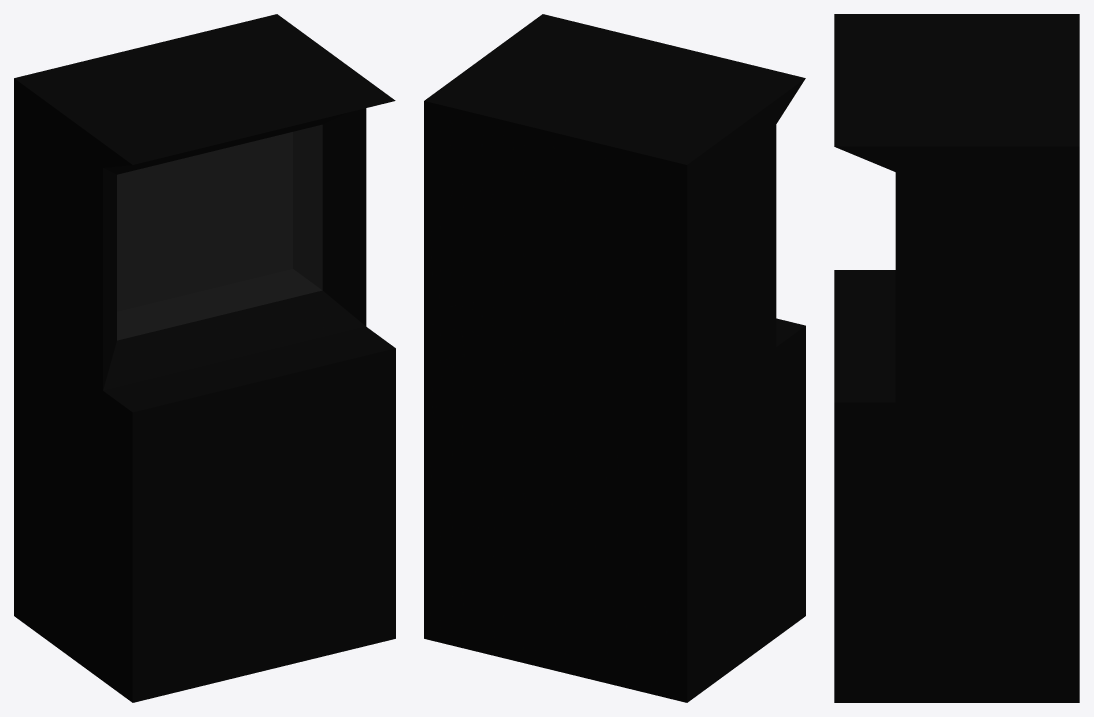
Rendered from Terminal.fbx.
3 renders of one model, left to right at view 1: azimuth 30°, elevation 25°; view 2: azimuth 150°, elevation 25°; view 3: azimuth 270°, elevation 25°, orthographic. The views are drawn at different scales.
Parts seen in each view (by area): view 1: Cube.001; view 2: Cube.001; view 3: Cube.001.
Boxes of the visible parts, x1,y1,x2,y2 form: Cube.001: [14, 14, 395, 702]; Cube.001: [424, 14, 805, 702]; Cube.001: [834, 14, 1079, 702].
Bounding box in the file's own units: 51.19 × 100 × 40.
